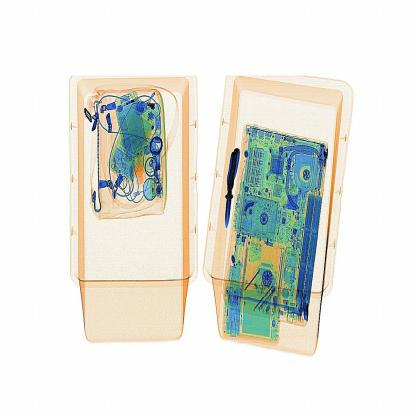gun: (221, 140, 250, 232)
